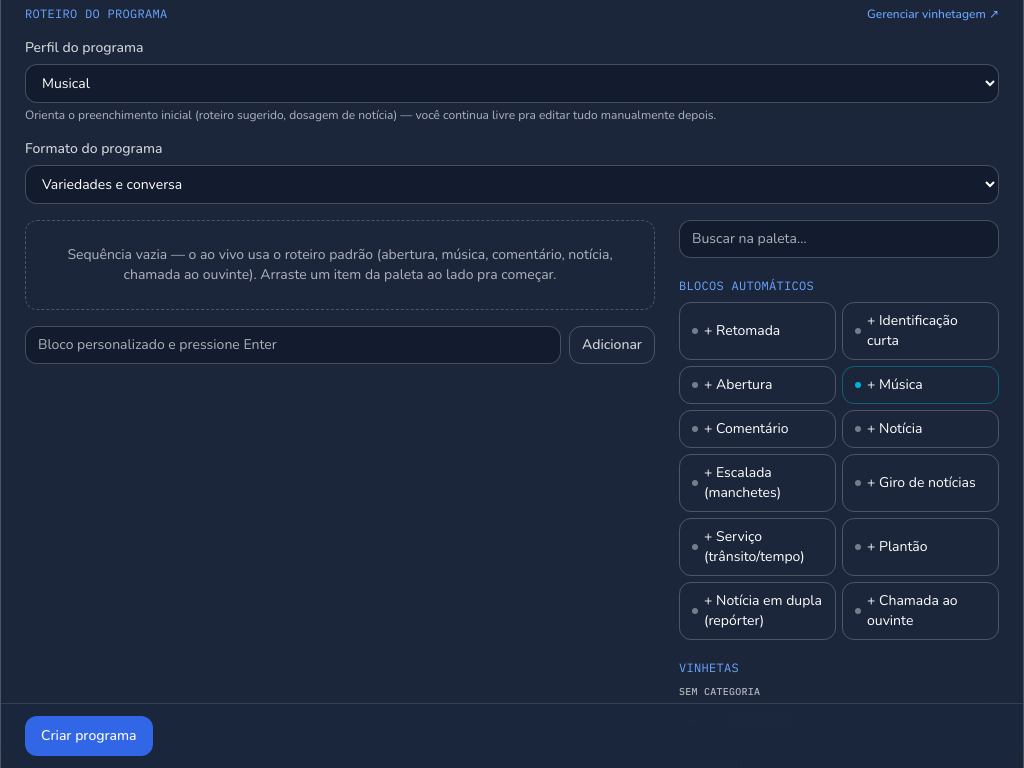
Test case: EditarProgramaForm (criação) › adicionar um bloco pela paleta atualiza a sequência na prévia
(page scrolled)
Expected: the text "Sequência vazia" is shown, [67,245,613,284]
Click the button "+ Abertura".
click(758, 385)  # box [679,366,836,404]
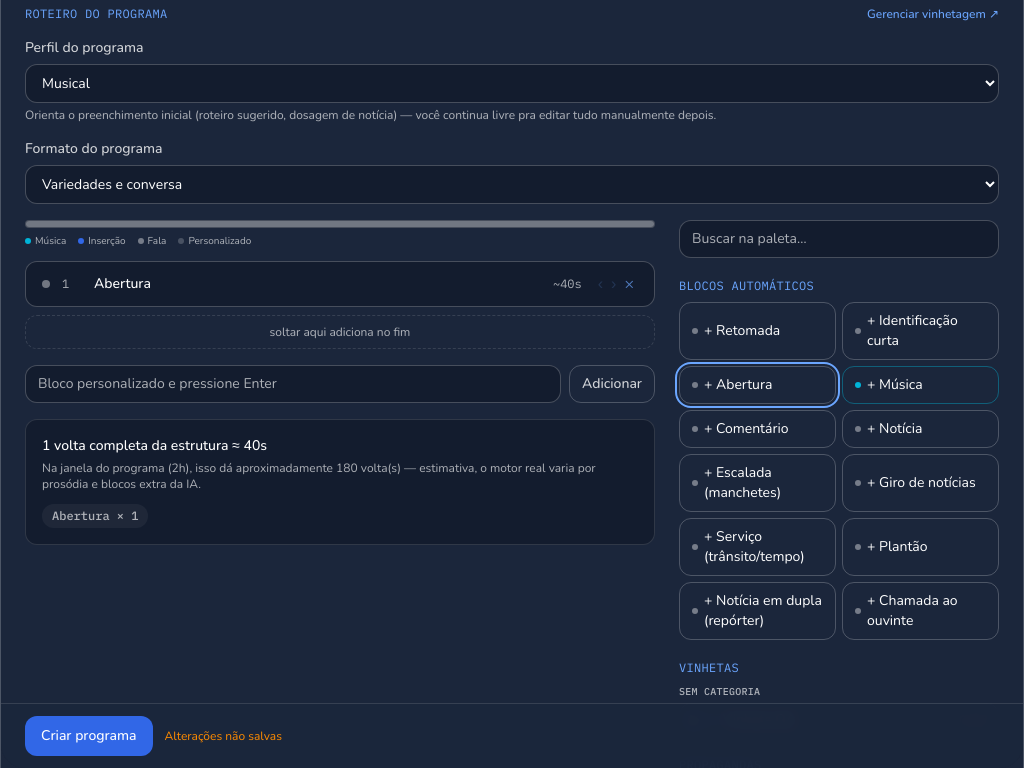
Now the text "Abertura" is shown, box [94,274,151,293]
Now the text "Sequência vazia" is gone
